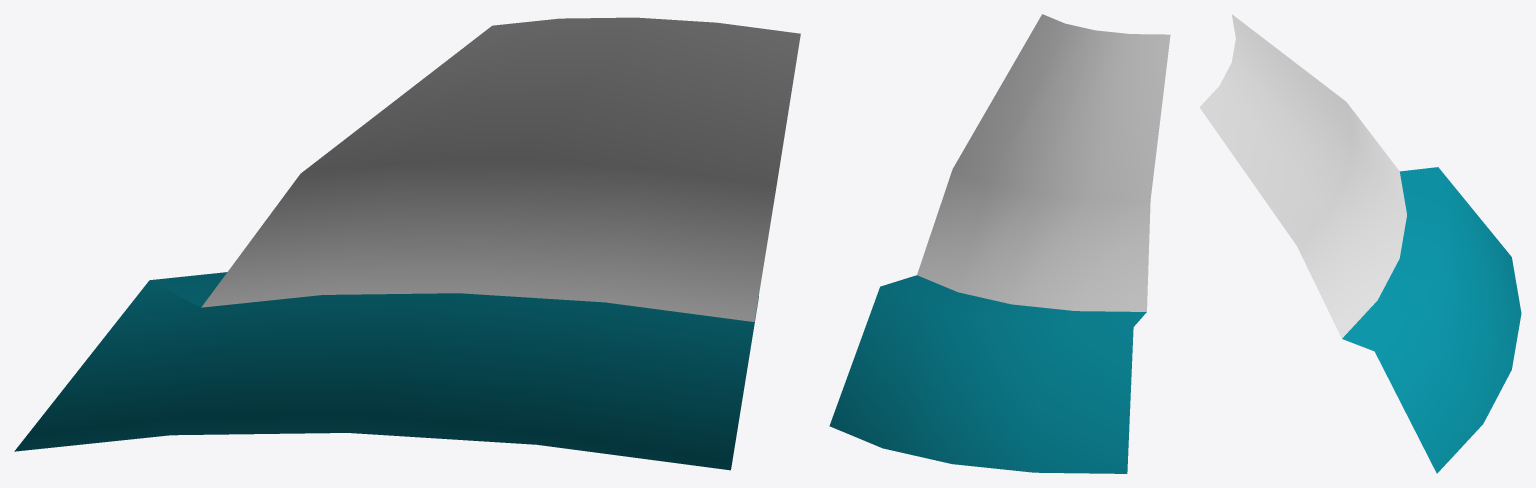
Rendered from SpaceShipNewPiace03.fbx.
3 renders of one model, left to right at view 1: azimuth 30°, elevation 25°; view 2: azimuth 150°, elevation 25°; view 3: azimuth 270°, elevation 25°, orthographic. The views are drawn at different scales.
Parts seen in each view (by area): view 1: Sphere.003; view 2: Sphere.003; view 3: Sphere.003.
Boxes of the visible parts, x1,y1,x2,y2 form: Sphere.003: [14, 17, 800, 470]; Sphere.003: [829, 14, 1170, 473]; Sphere.003: [1199, 14, 1521, 473].
Bounding box in the file's own units: 61.43 × 53.38 × 64.32.
